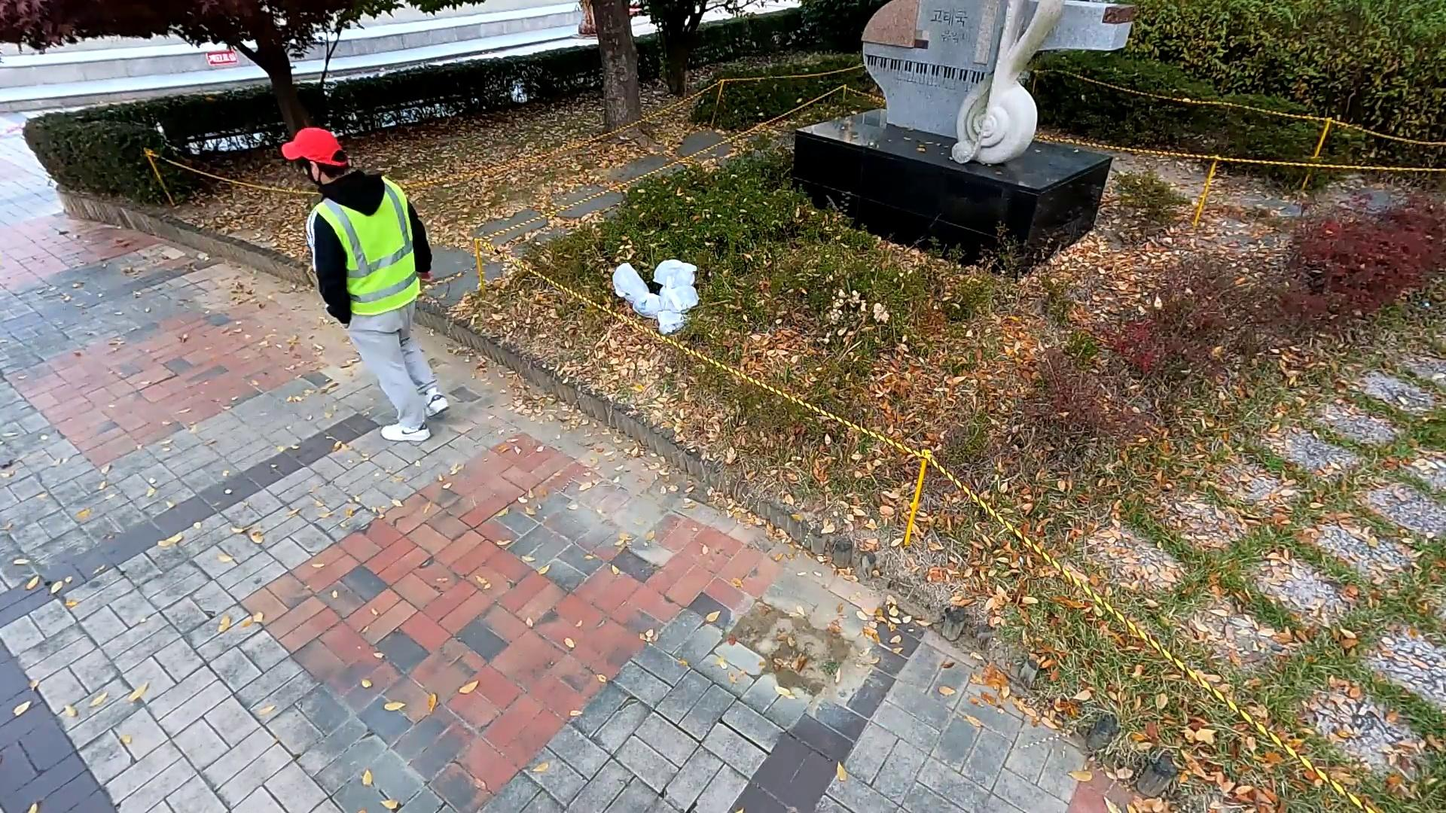person: (275, 113, 454, 447)
trash: (612, 262, 649, 302), (653, 259, 697, 289), (659, 284, 700, 314), (629, 292, 666, 318), (657, 309, 686, 336)
